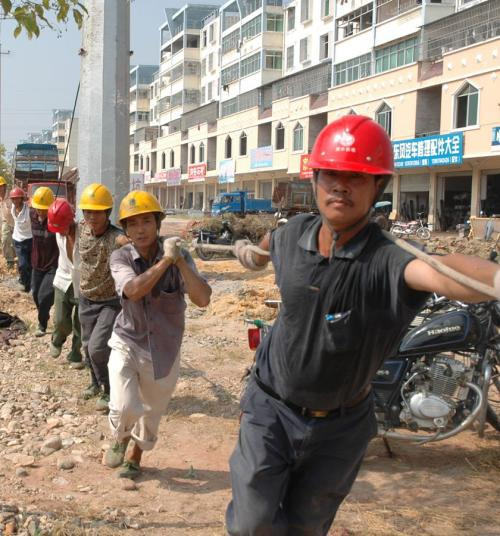helmet: (298, 108, 401, 237), (114, 185, 167, 249), (80, 178, 116, 239), (47, 199, 73, 240), (27, 187, 58, 220), (7, 184, 29, 213)
